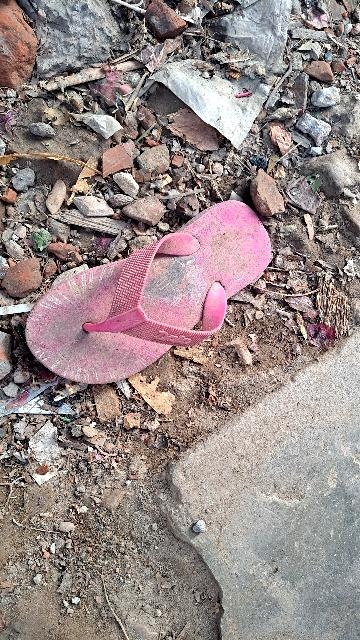sandal: (22, 187, 288, 398)
